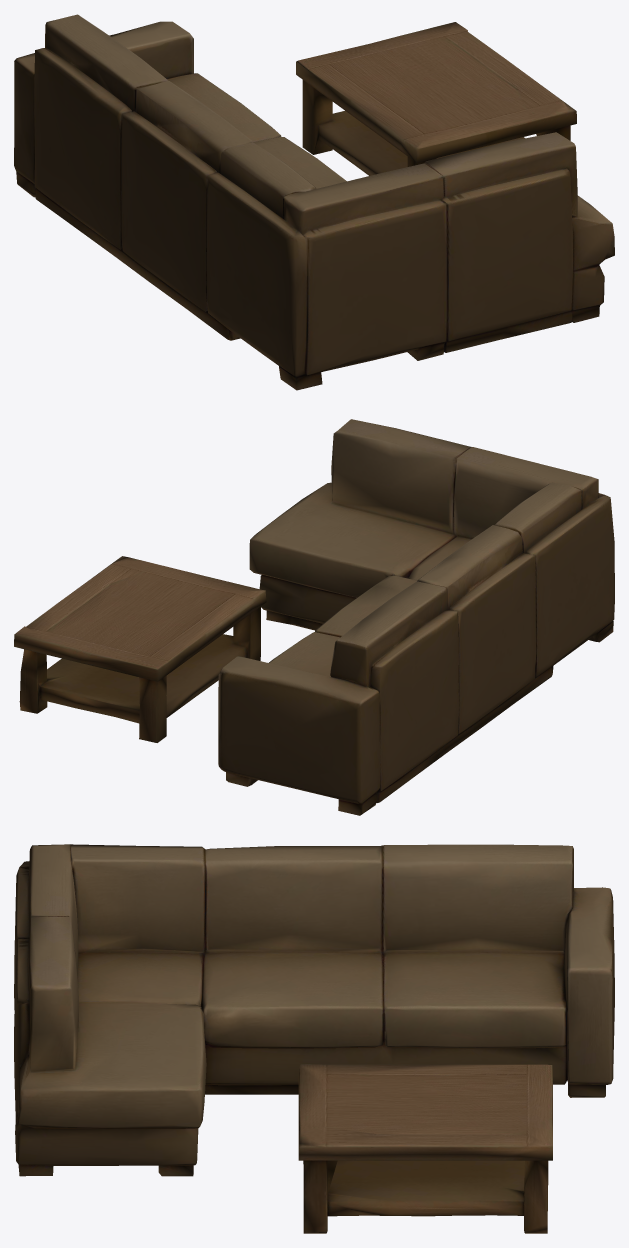
Rendered from couch.fbx.
The picture shows the model from 3 angles, top to bottom: view 1: azimuth 30°, elevation 25°; view 2: azimuth 150°, elevation 25°; view 3: azimuth 270°, elevation 25°; orthographic projection. The views are drawn at different scales.
Visible parts, largest first — view 1: tripo_node_48f521e1; view 2: tripo_node_48f521e1; view 3: tripo_node_48f521e1.
Boxes of the visible parts, box(x1,y1,x2,y2) form: tripo_node_48f521e1: box(14, 14, 614, 390); tripo_node_48f521e1: box(14, 419, 614, 815); tripo_node_48f521e1: box(14, 844, 614, 1233).
Bounding box in the file's own units: 0.8288 × 0.339 × 0.982.
